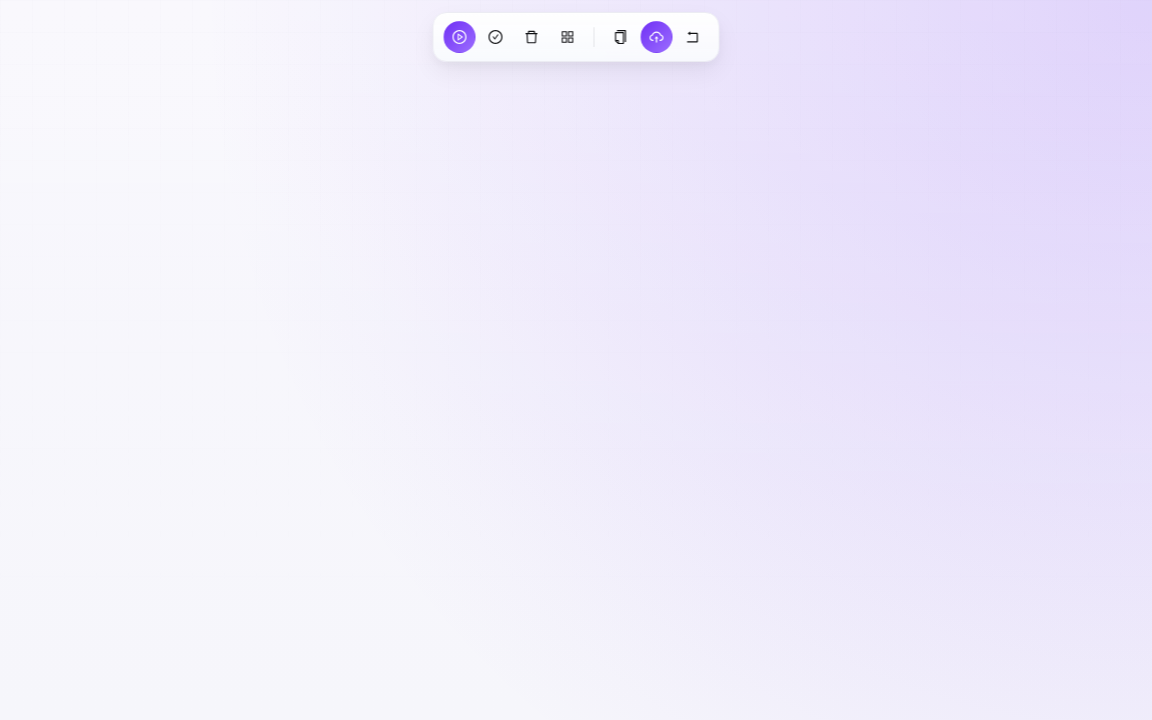
Test: CanvasFloatingToolbar › click Publish opens name dialog when no workflowId
Click the button with test id "floating-btn-publish".
click(656, 37)  # box left=640, top=21, right=672, bottom=53
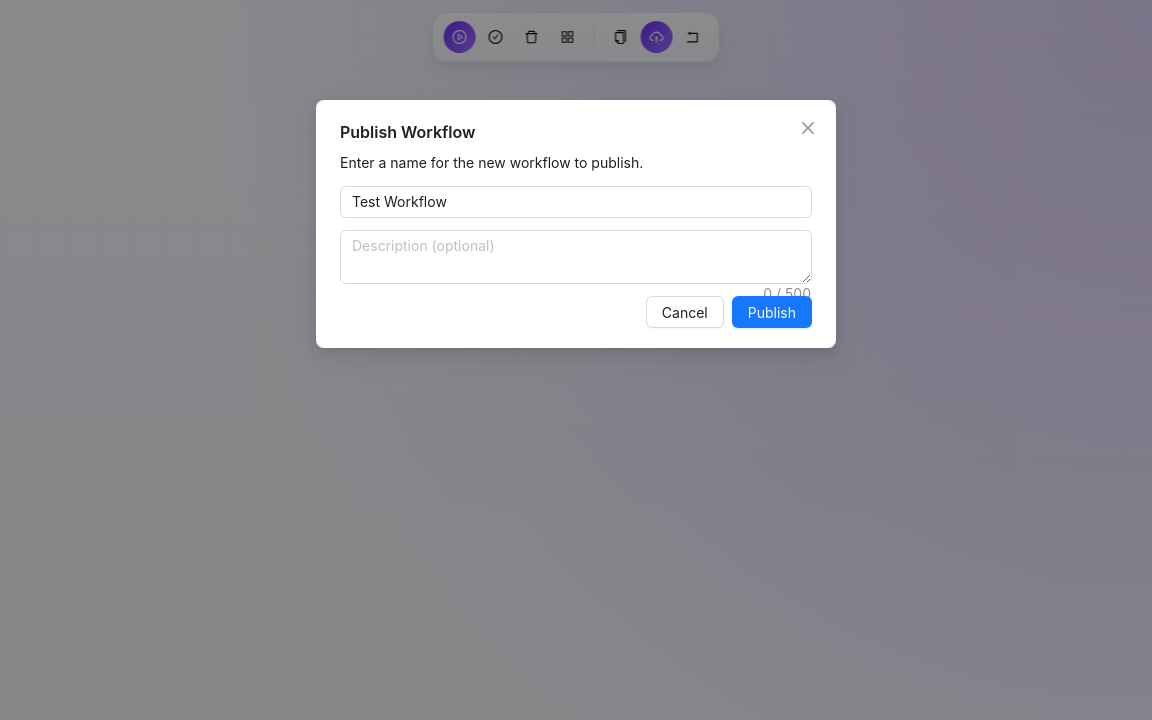
Expected: the field with test id "workflow-name-dialog-input" is shown, left=340, top=186, right=812, bottom=218
